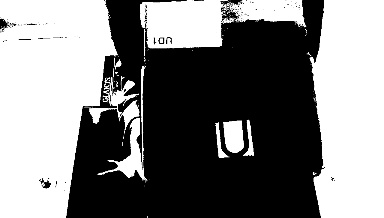U: (215, 119, 252, 156)
